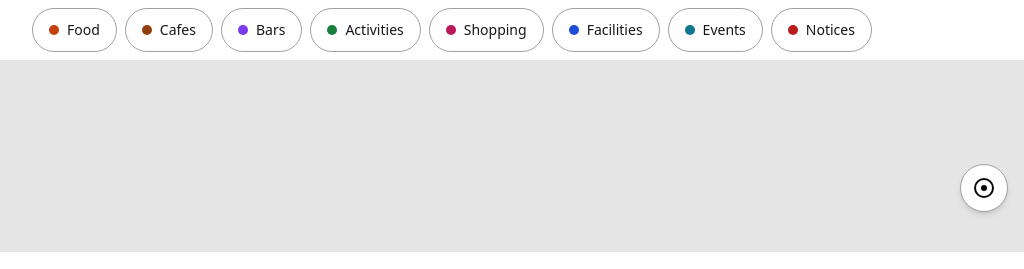
Test: an unavailable location says so
Click the button named "Show my location" at (984, 188), box [960,164,1008,212]
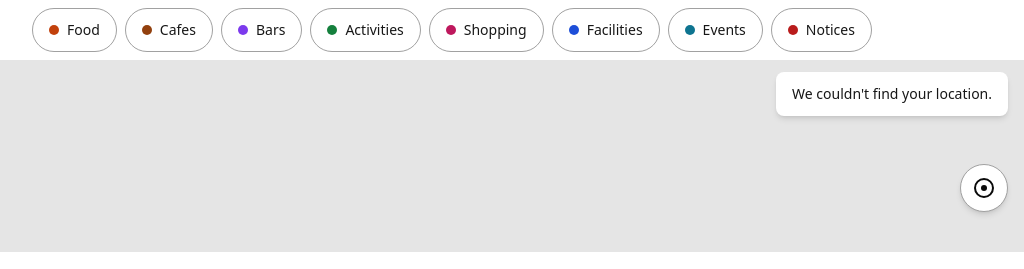
Expected: the text "We couldn't find your location." is shown, [792,84,992,103]
